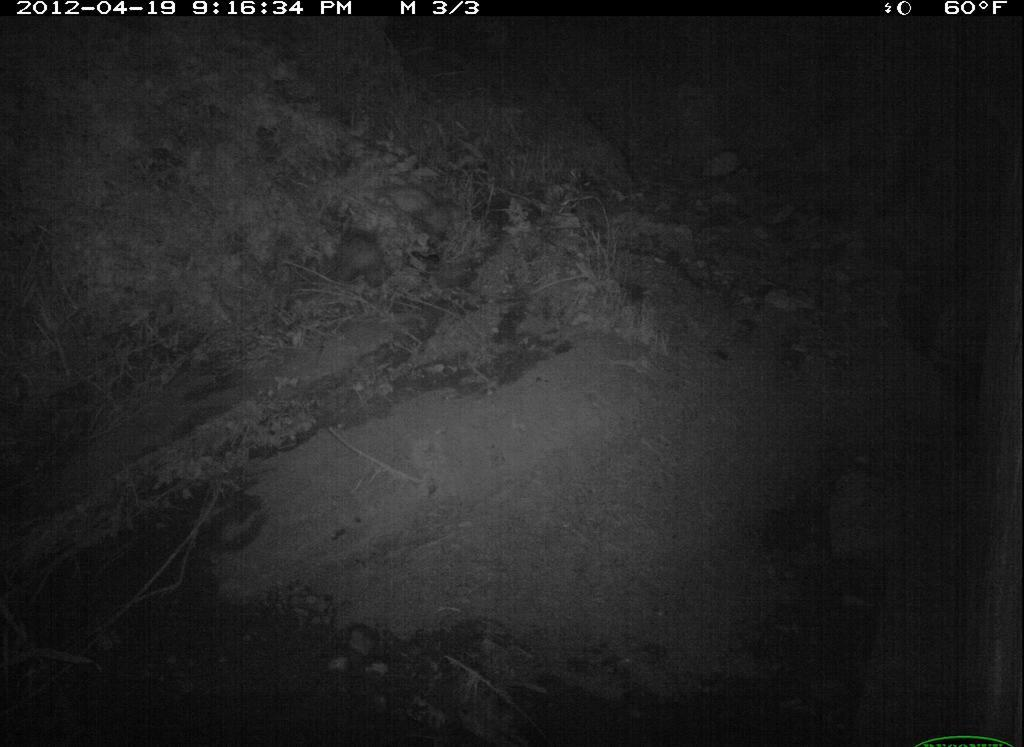opossum: (335, 221, 378, 305)
